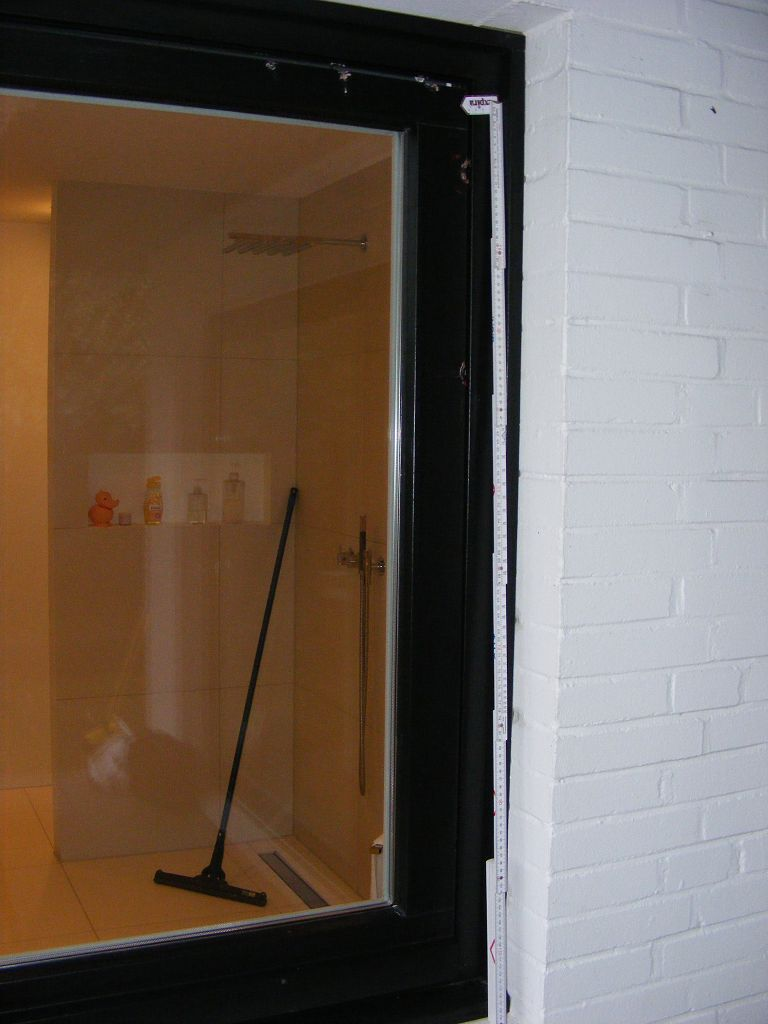windows: (1, 75, 479, 985)
